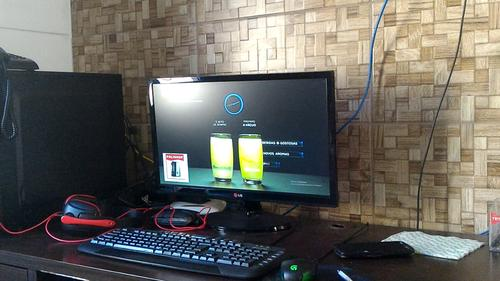Polishop #1: (162, 151, 189, 182)
